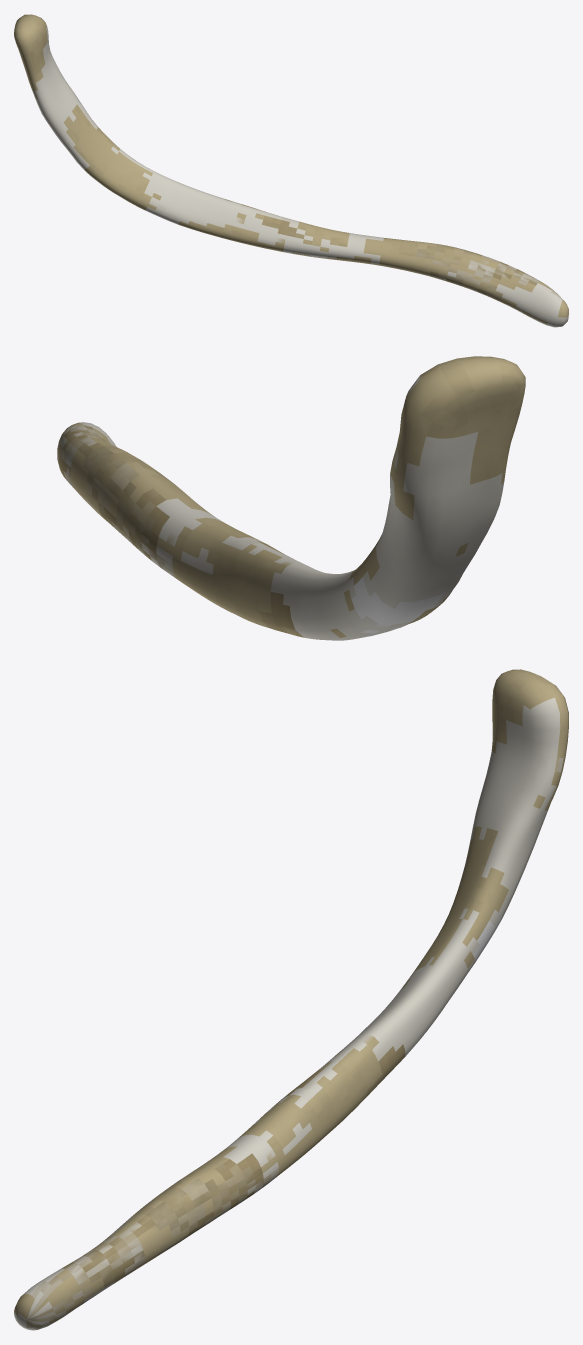
3 renders of one model, top to bottom at view 1: azimuth 30°, elevation 25°; view 2: azimuth 150°, elevation 25°; view 3: azimuth 270°, elevation 25°, orthographic. The views are drawn at different scales.
Visible parts, largest first — view 1: CC R09; view 2: CC R09; view 3: CC R09.
Boxes of the visible parts, bbox=[...] form: CC R09: bbox=[14, 14, 568, 327]; CC R09: bbox=[57, 356, 525, 640]; CC R09: bbox=[14, 669, 568, 1330].
Bounding box in the file's own units: 15.44 × 10.27 × 13.03.
